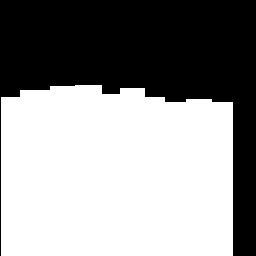person: (20, 90, 49, 256), (50, 86, 78, 256), (75, 85, 101, 256), (97, 94, 123, 256), (120, 88, 144, 256), (186, 99, 211, 256), (161, 102, 186, 256), (207, 102, 232, 256), (1, 97, 24, 256), (141, 97, 164, 256)
